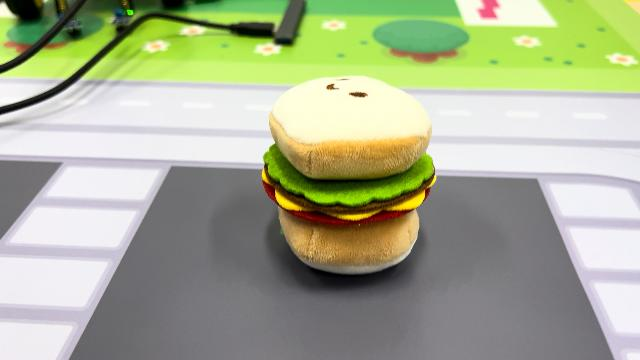sandwich: (259, 72, 439, 276)
